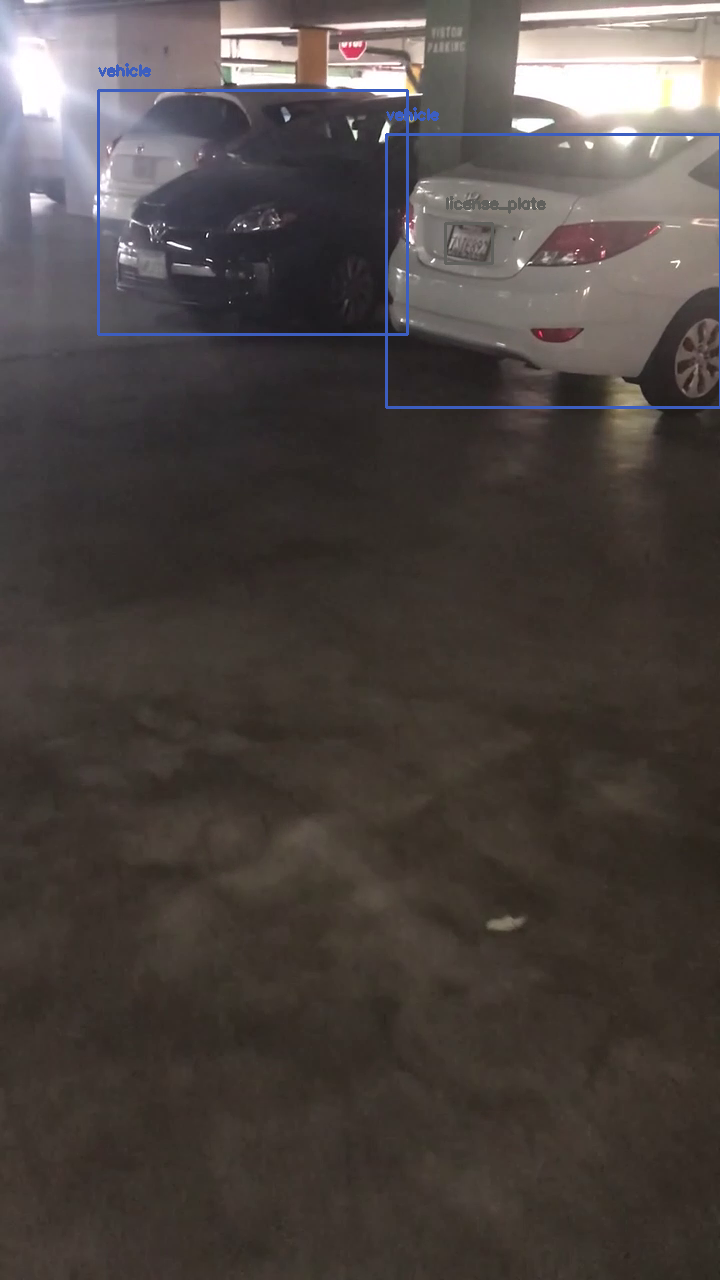license_plate: (445, 223, 492, 263)
vehicle: (386, 134, 720, 407), (98, 90, 407, 334)
